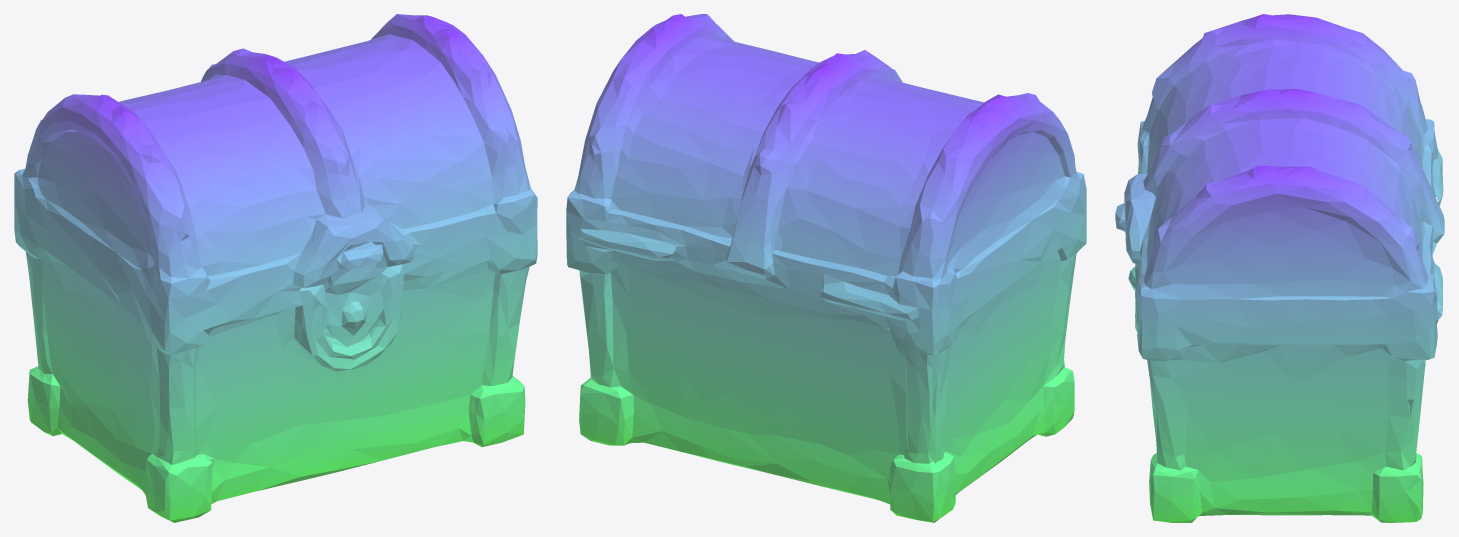
The model's file is 2_cyb_laser_gradient_fish_scales_2923_2026_10_03_16148d.glb.
The picture shows the model from 3 angles, left to right: view 1: azimuth 30°, elevation 25°; view 2: azimuth 150°, elevation 25°; view 3: azimuth 270°, elevation 25°; orthographic projection. The views are drawn at different scales.
Visible parts, largest first — view 1: geometry_0; view 2: geometry_0; view 3: geometry_0.
Part boxes in pixels (box(x1,y1,x2,y2)): geometry_0: box(14, 14, 537, 522); geometry_0: box(566, 14, 1086, 522); geometry_0: box(1115, 14, 1444, 522).
Size of the model in its own units: 0.9967 by 0.936 by 0.7927.
